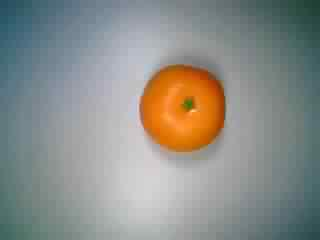orange: (134, 54, 229, 156)
